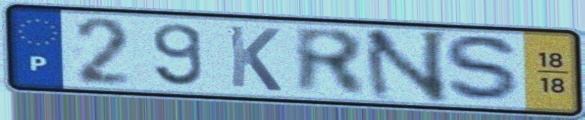2: (69, 15, 134, 89)
9: (149, 22, 206, 88)
K: (224, 22, 284, 94)
N: (359, 28, 451, 105)
R: (290, 24, 371, 98)
S: (440, 32, 528, 106)
